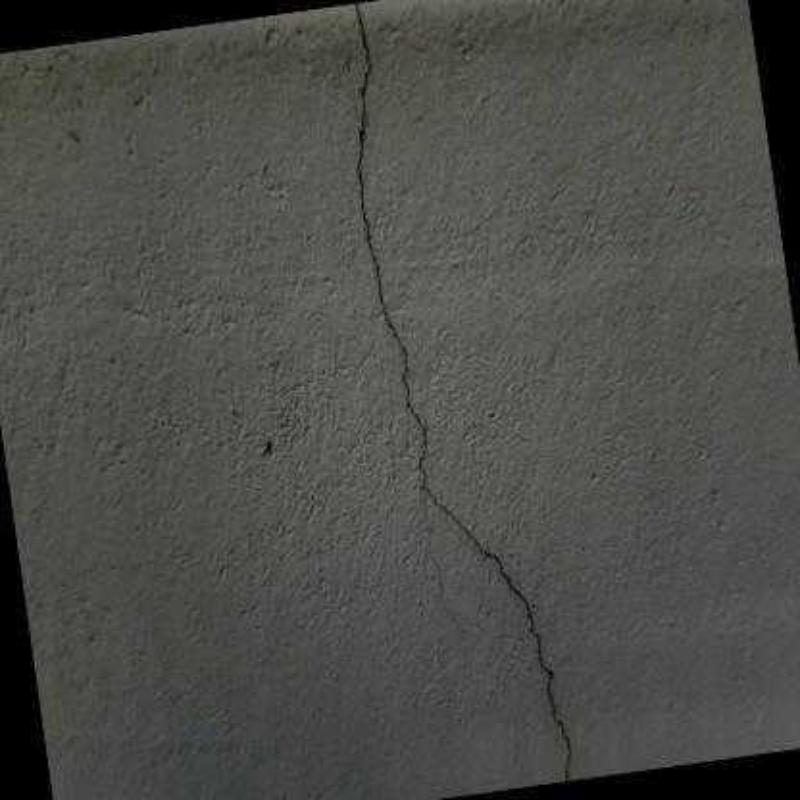pothole: (353, 2, 572, 781)
